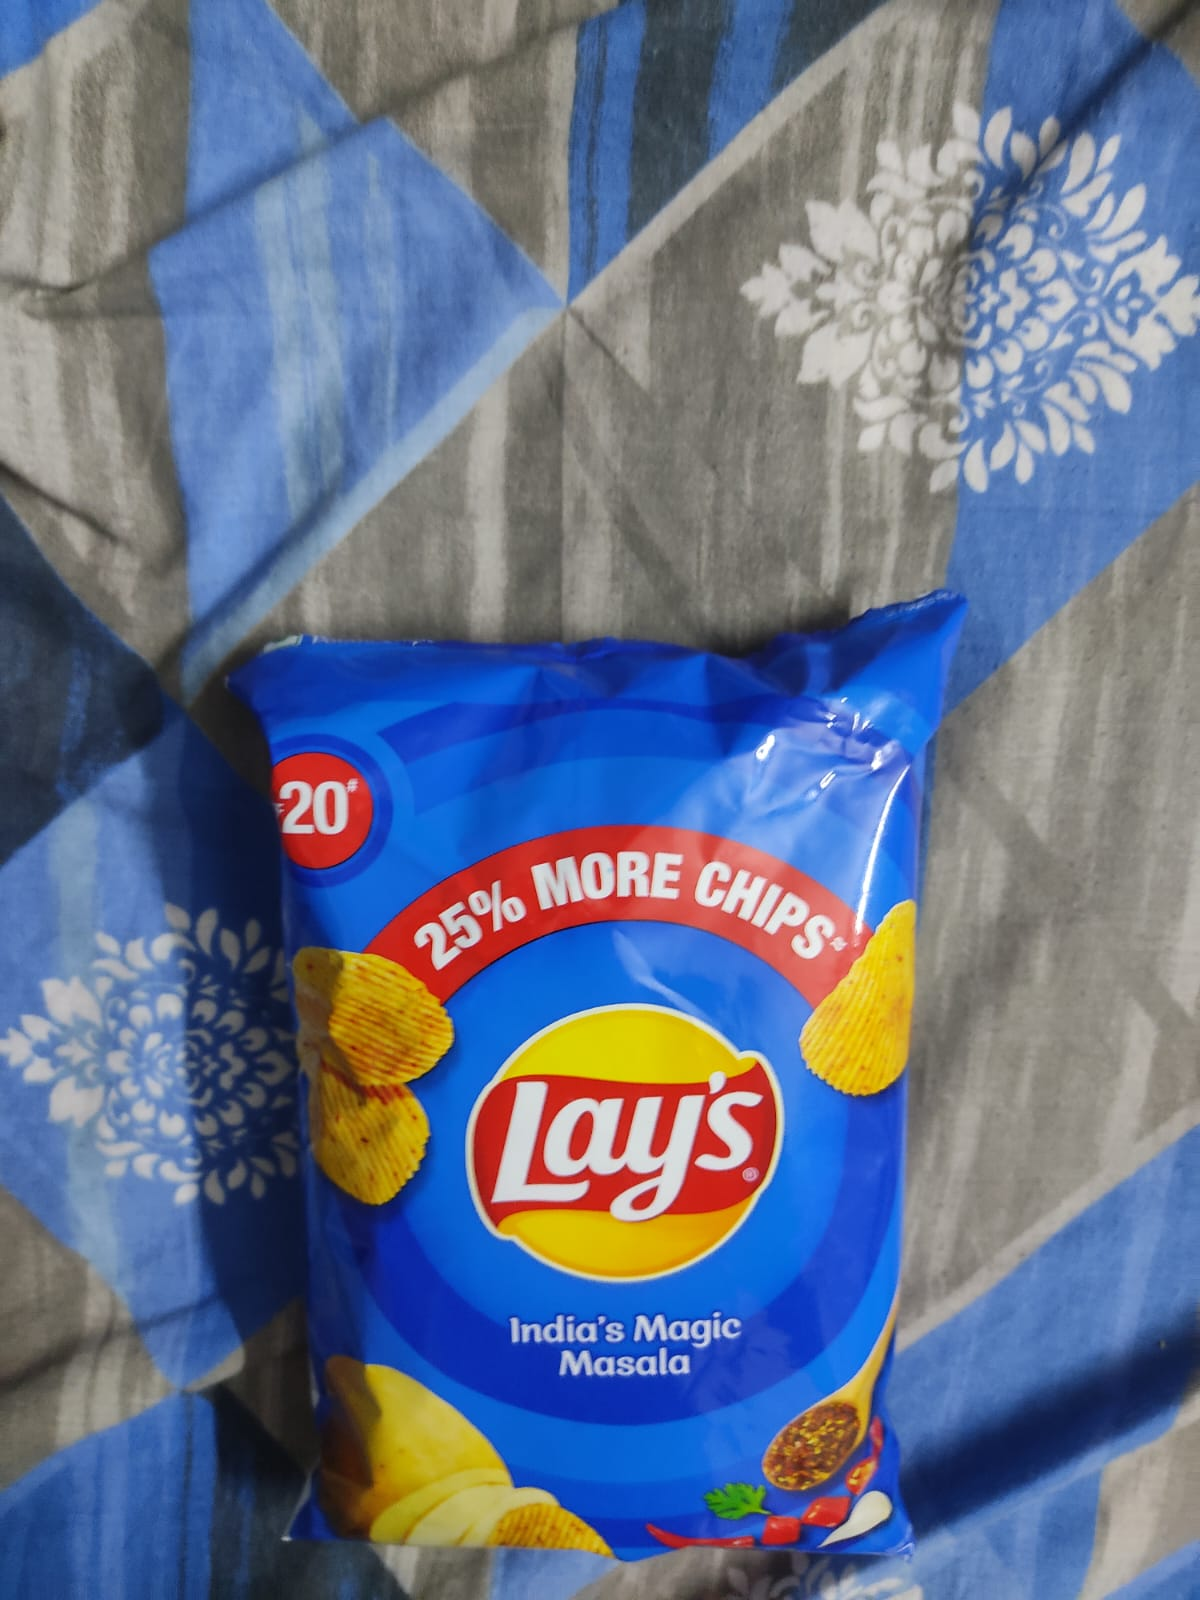020_BlueLays: (251, 677, 938, 1540)
